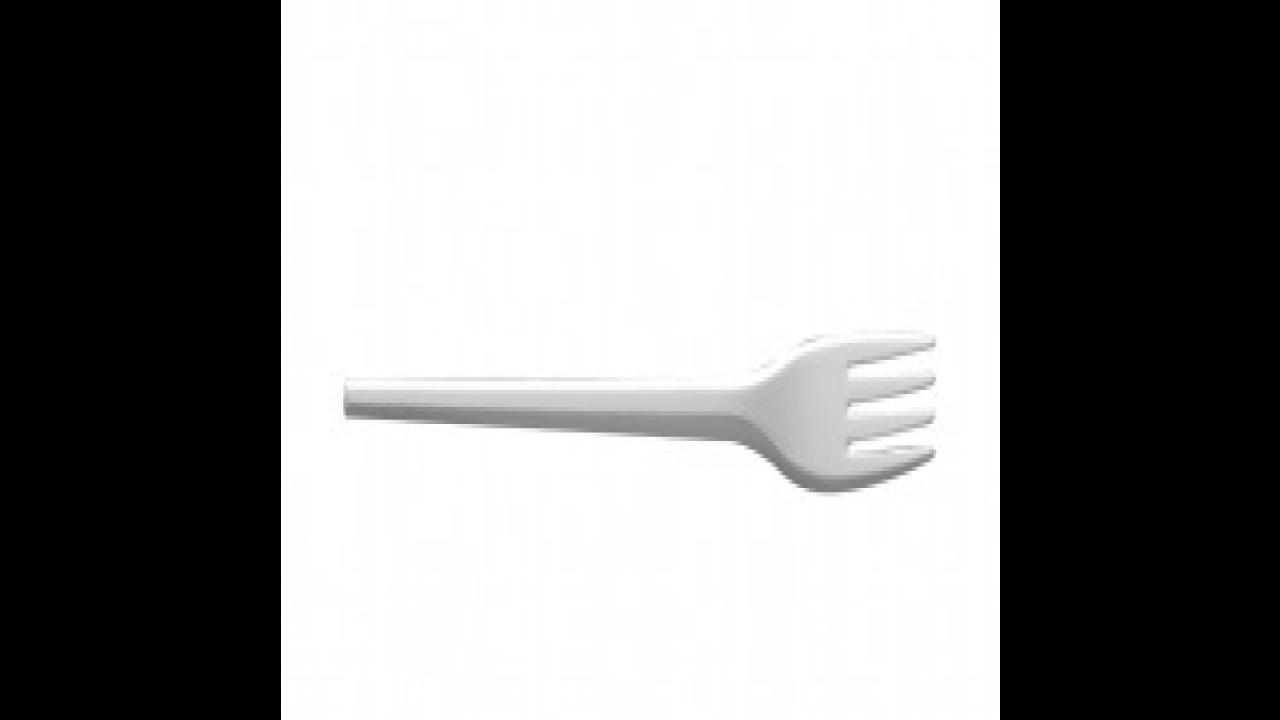fork: (342, 325, 940, 492)
